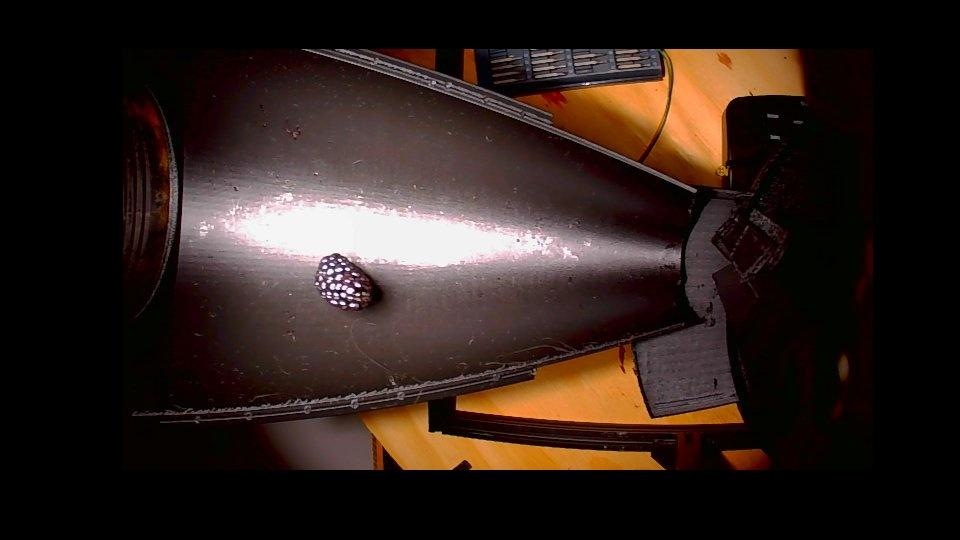berry: (314, 253, 374, 310)
